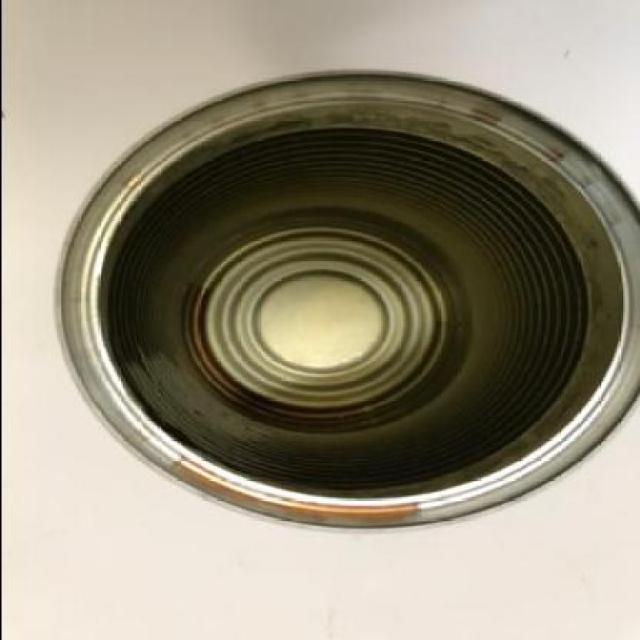METAL: (54, 69, 638, 531)
